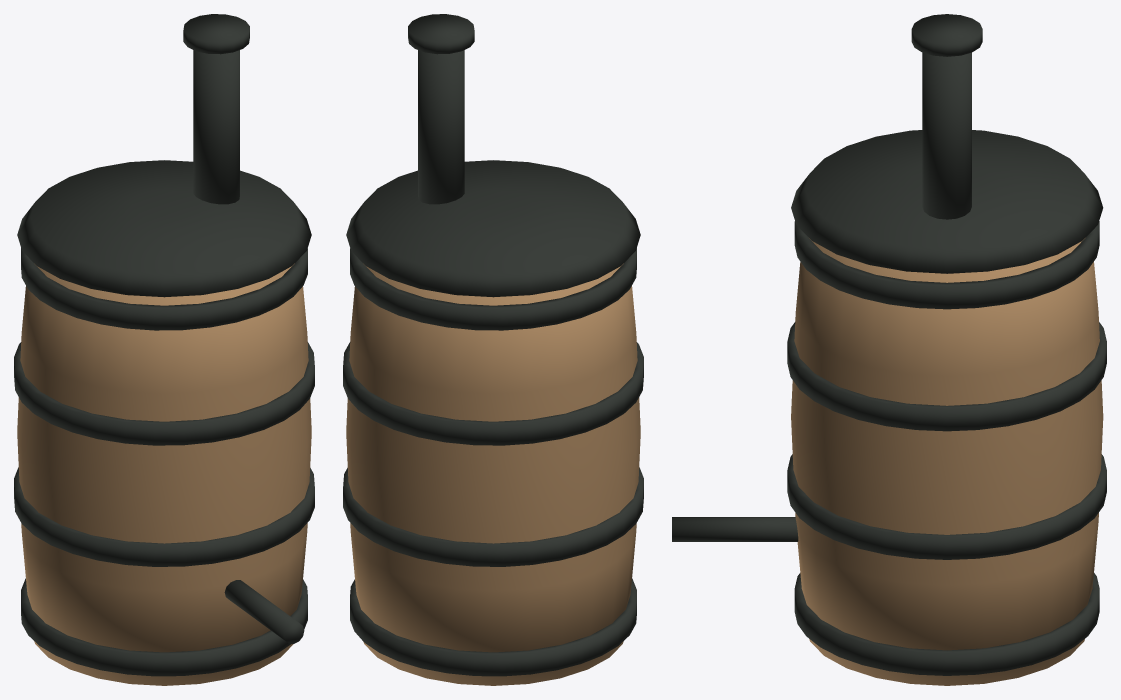
File: BlackMetalBoiler.fbx
3 renders of one model, left to right at view 1: azimuth 30°, elevation 25°; view 2: azimuth 150°, elevation 25°; view 3: azimuth 270°, elevation 25°, orthographic. The views are drawn at different scales.
Parts seen in each view (by area): view 1: ext_boiler_body, ext_boiler_metal; view 2: ext_boiler_body, ext_boiler_metal; view 3: ext_boiler_body, ext_boiler_metal.
Part boxes in pixels (box(x1,y1,x2,y2)): ext_boiler_body: box(17, 263, 311, 685); ext_boiler_metal: box(14, 14, 314, 676); ext_boiler_body: box(346, 263, 640, 685); ext_boiler_metal: box(343, 14, 643, 676); ext_boiler_body: box(791, 238, 1103, 685); ext_boiler_metal: box(672, 14, 1106, 675).
Size of the model in its own units: 0.9 by 1.94 by 1.22.
